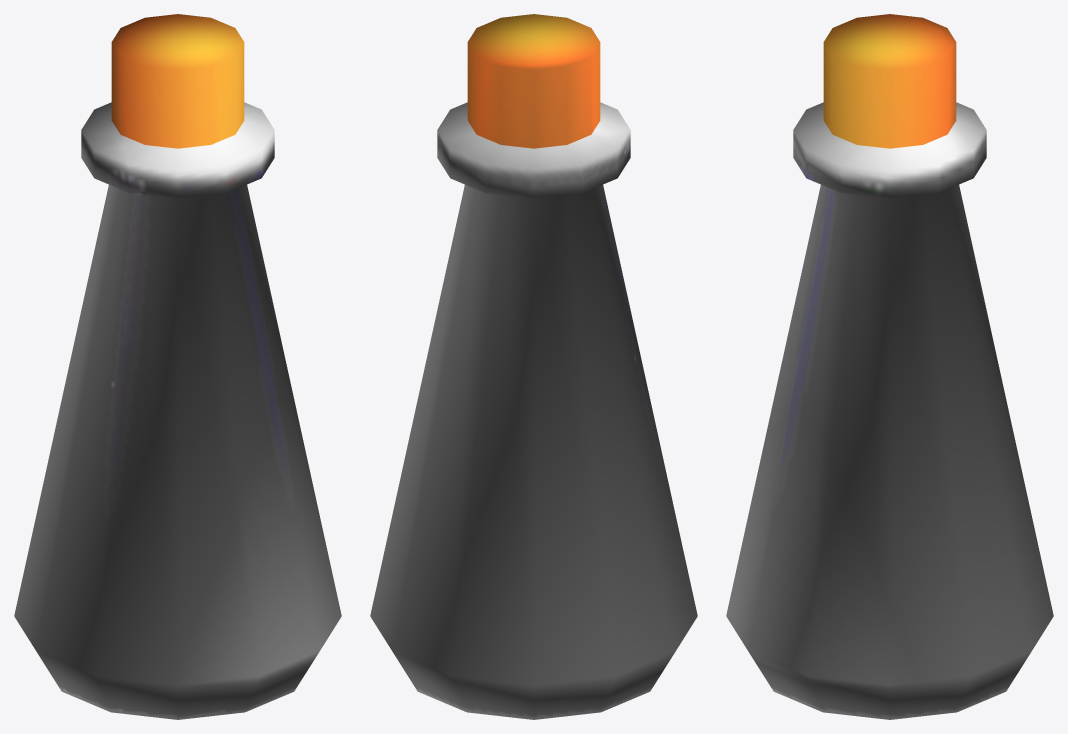
Rendered from Potion3.fbx.
The picture shows the model from 3 angles, left to right: view 1: azimuth 30°, elevation 25°; view 2: azimuth 150°, elevation 25°; view 3: azimuth 270°, elevation 25°; orthographic projection.
Parts seen in each view (by area): view 1: Cylinder.004; view 2: Cylinder.004; view 3: Cylinder.004.
Boxes of the visible parts, <box> form: Cylinder.004: <box>14,14,341,719</box>; Cylinder.004: <box>370,14,697,719</box>; Cylinder.004: <box>726,14,1053,719</box>.
Size of the model in its own units: 39.7 by 83.05 by 39.7.
